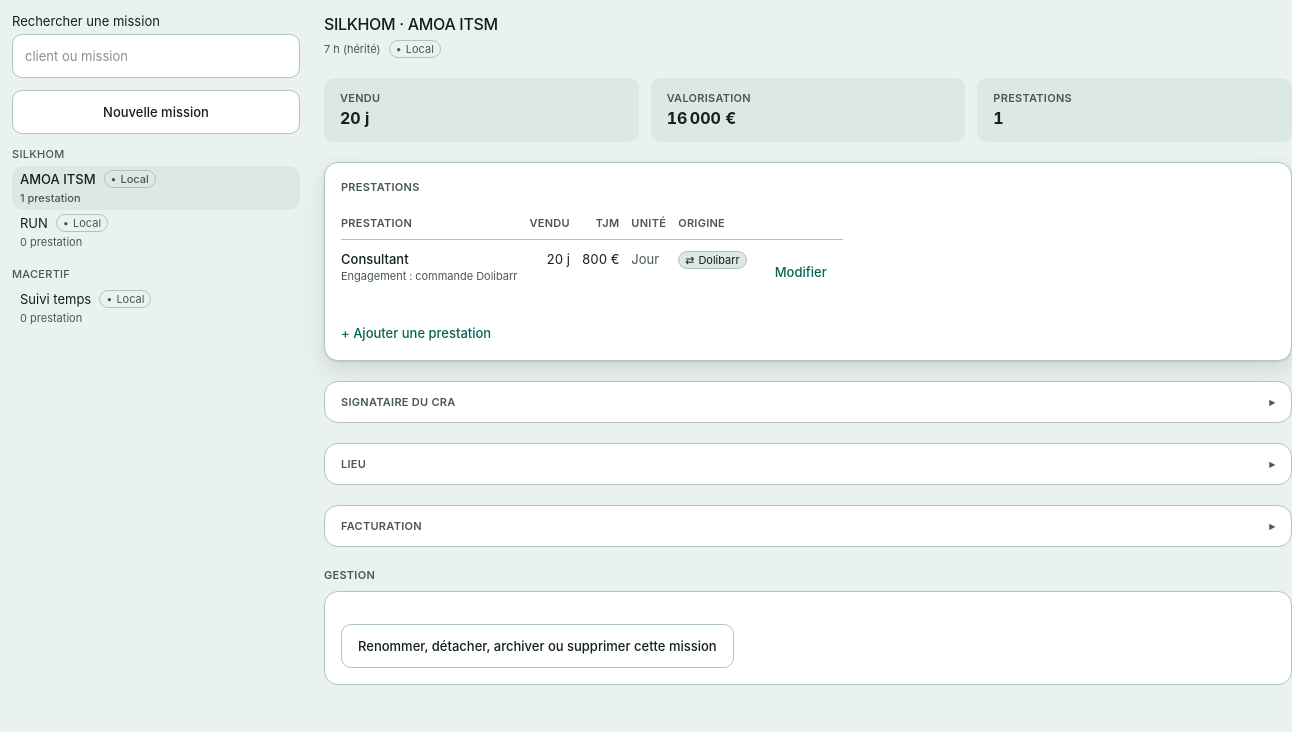
Test: MissionsExplorer — la liste › le dit quand la recherche ne rend rien, au lieu d’une liste vide muette
This screenshot has width=1292, height=732.
In the field labelled "Rechercher une mission": (156, 56) top-left (12, 34), bottom-right (300, 78), type "zzz"
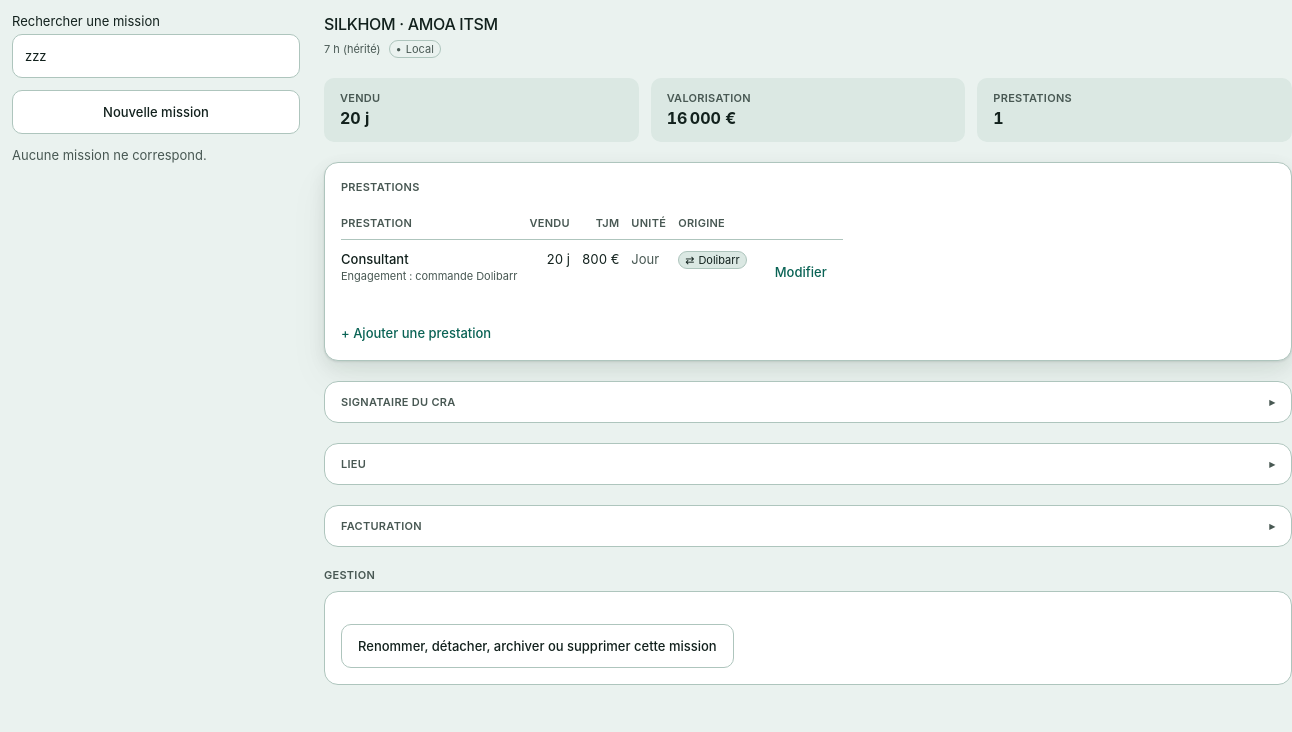
Now the text "Aucune mission ne correspond." is shown, box top-left (12, 147), bottom-right (207, 163)
